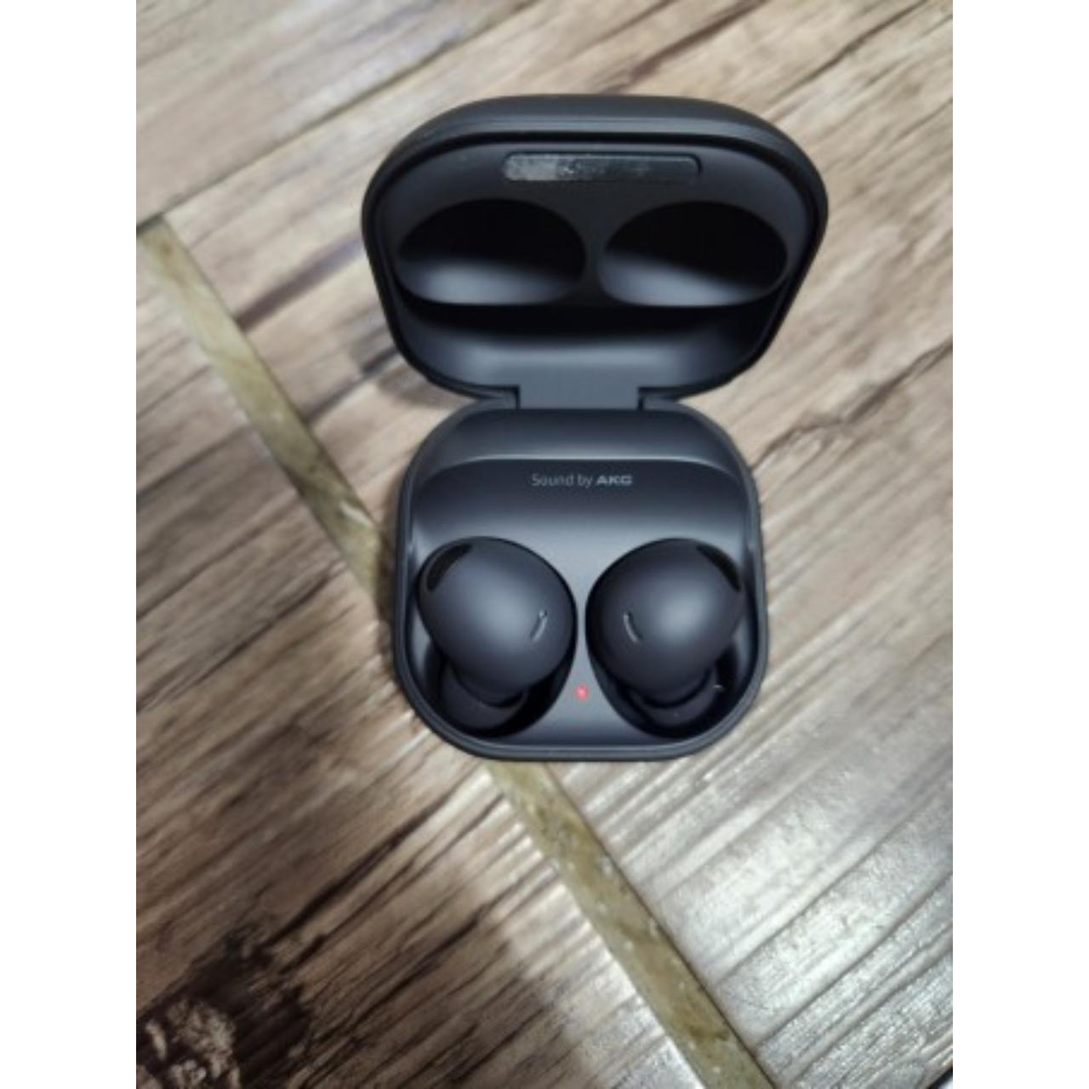Buds: (353, 88, 835, 773)
Buds_Units: (397, 527, 585, 751), (581, 535, 767, 743)
